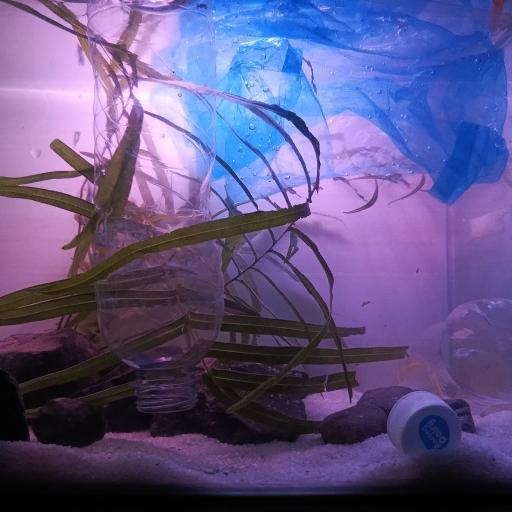bottle_cap: (388, 389, 462, 457)
plastic_bag: (155, 0, 508, 205)
plastic_bottle: (85, 0, 225, 411), (397, 296, 512, 416)
